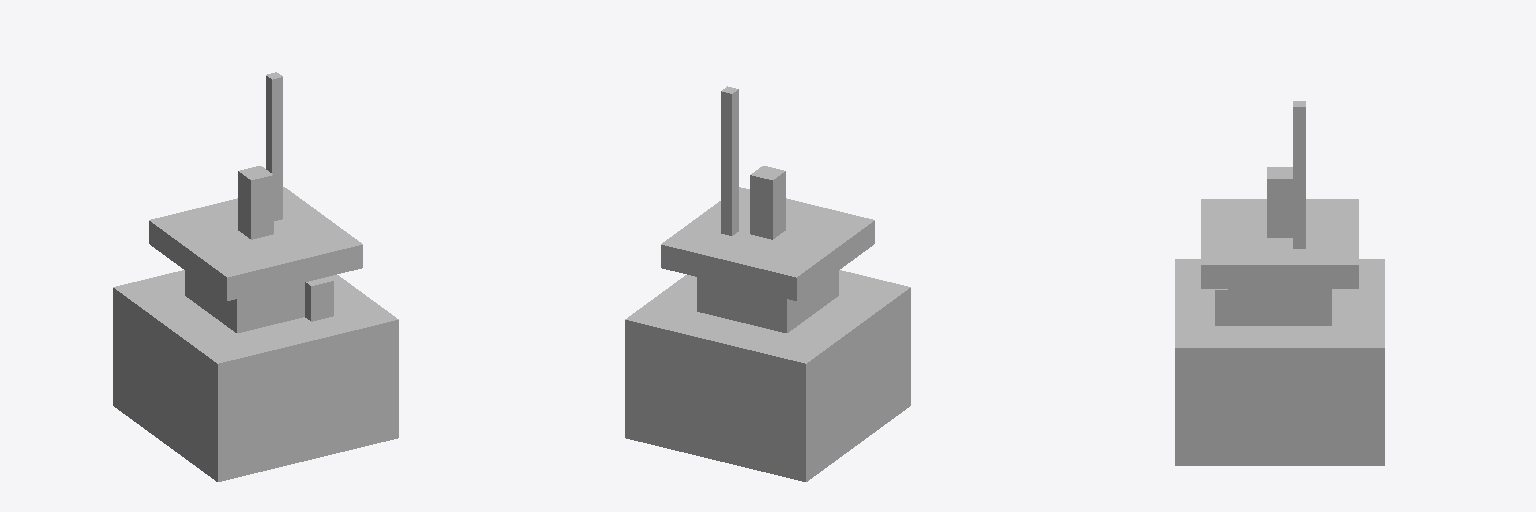
Rendered from M_Ludem_Tile_Building_V1.obj.
3 renders of one model, left to right at view 1: azimuth 30°, elevation 25°; view 2: azimuth 150°, elevation 25°; view 3: azimuth 270°, elevation 25°, orthographic.
Parts seen in each view (by area): view 1: cube; view 2: cube; view 3: cube.
Boxes of the visible parts, box(x1,y1,x2,y2) form: cube: box(113, 72, 398, 481); cube: box(625, 86, 910, 481); cube: box(1175, 101, 1384, 465).
Bounding box in the file's own units: 1 × 1.75 × 1.